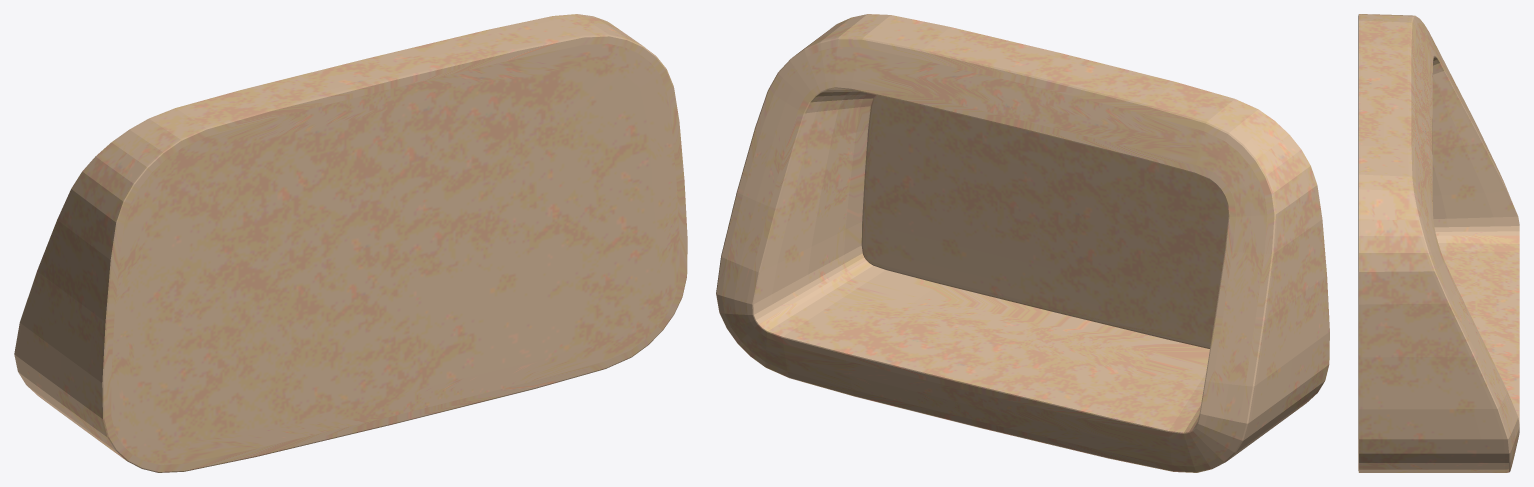
The model's file is jabonera.fbx.
3 views of the same model, side by side, from view 1: azimuth 30°, elevation 25°; view 2: azimuth 150°, elevation 25°; view 3: azimuth 270°, elevation 25° (orthographic). The views are drawn at different scales.
Parts seen in each view (by area): view 1: jabonera; view 2: jabonera; view 3: jabonera.
Boxes of the visible parts, x1,y1,x2,y2 form: jabonera: [14, 14, 687, 472]; jabonera: [716, 14, 1329, 472]; jabonera: [1358, 14, 1519, 472].
Bounding box in the file's own units: 15.94 × 8.99 × 4.56.
